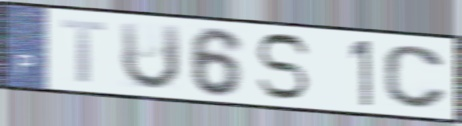1: (348, 38, 374, 109)
6: (188, 25, 247, 99)
C: (381, 43, 451, 111)
S: (253, 31, 313, 102)
T: (58, 17, 109, 86)
U: (117, 19, 182, 92)
